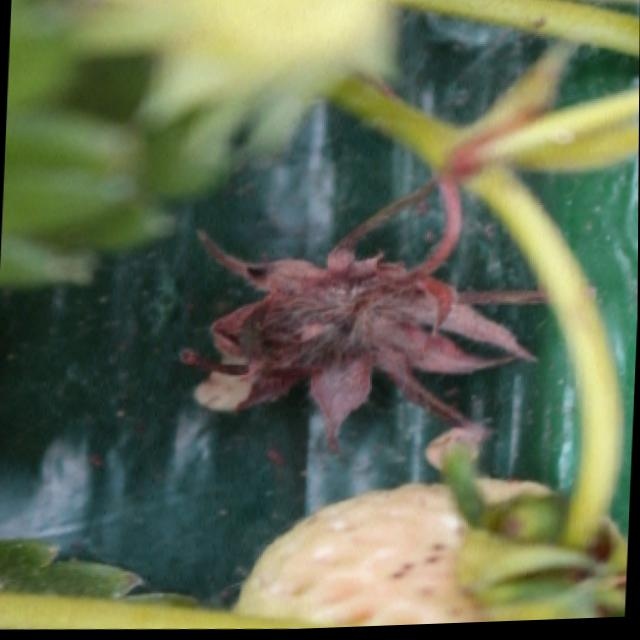Gray Mold: (180, 186, 549, 453)
